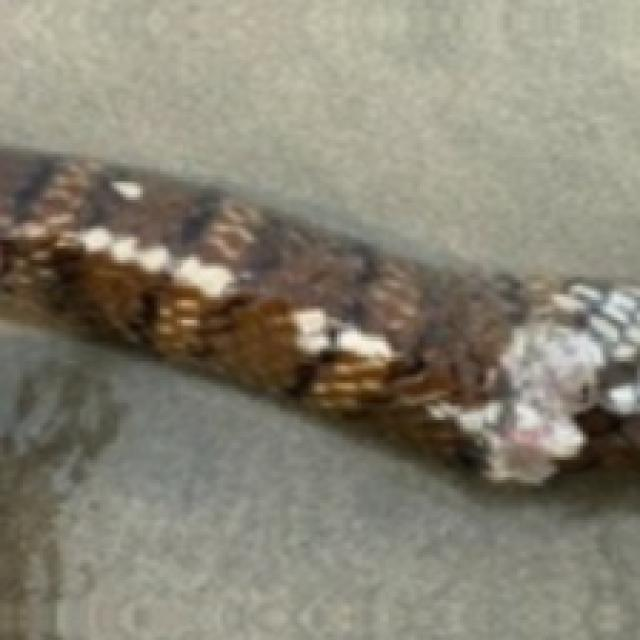king cobra: (0, 149, 637, 483), (0, 340, 126, 637)
